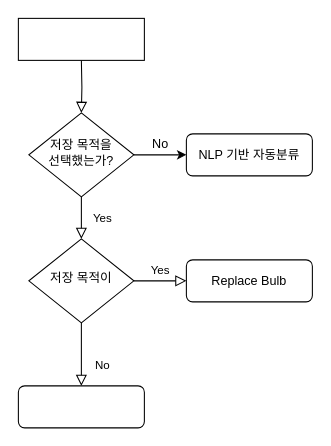
The diagram is 331 pixels wide and 446 high, and some of its shapes have lost their labels. Each missing label, with the box of its shape:
Repair Lamp: (17, 385, 144, 428)
핀 클릭 트레픽 발생: (17, 17, 144, 60)
